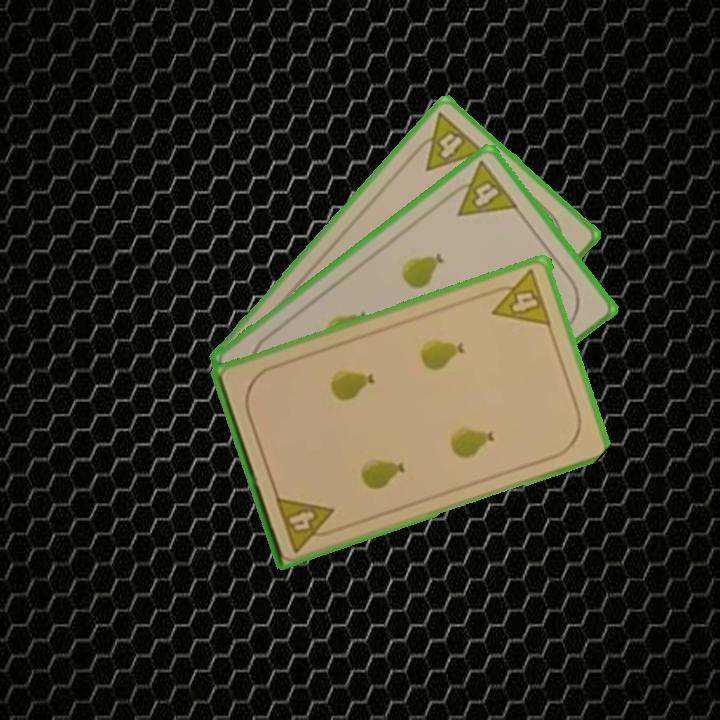4p: (407, 108, 487, 174), (441, 157, 521, 219), (483, 266, 554, 329), (272, 492, 342, 555)
